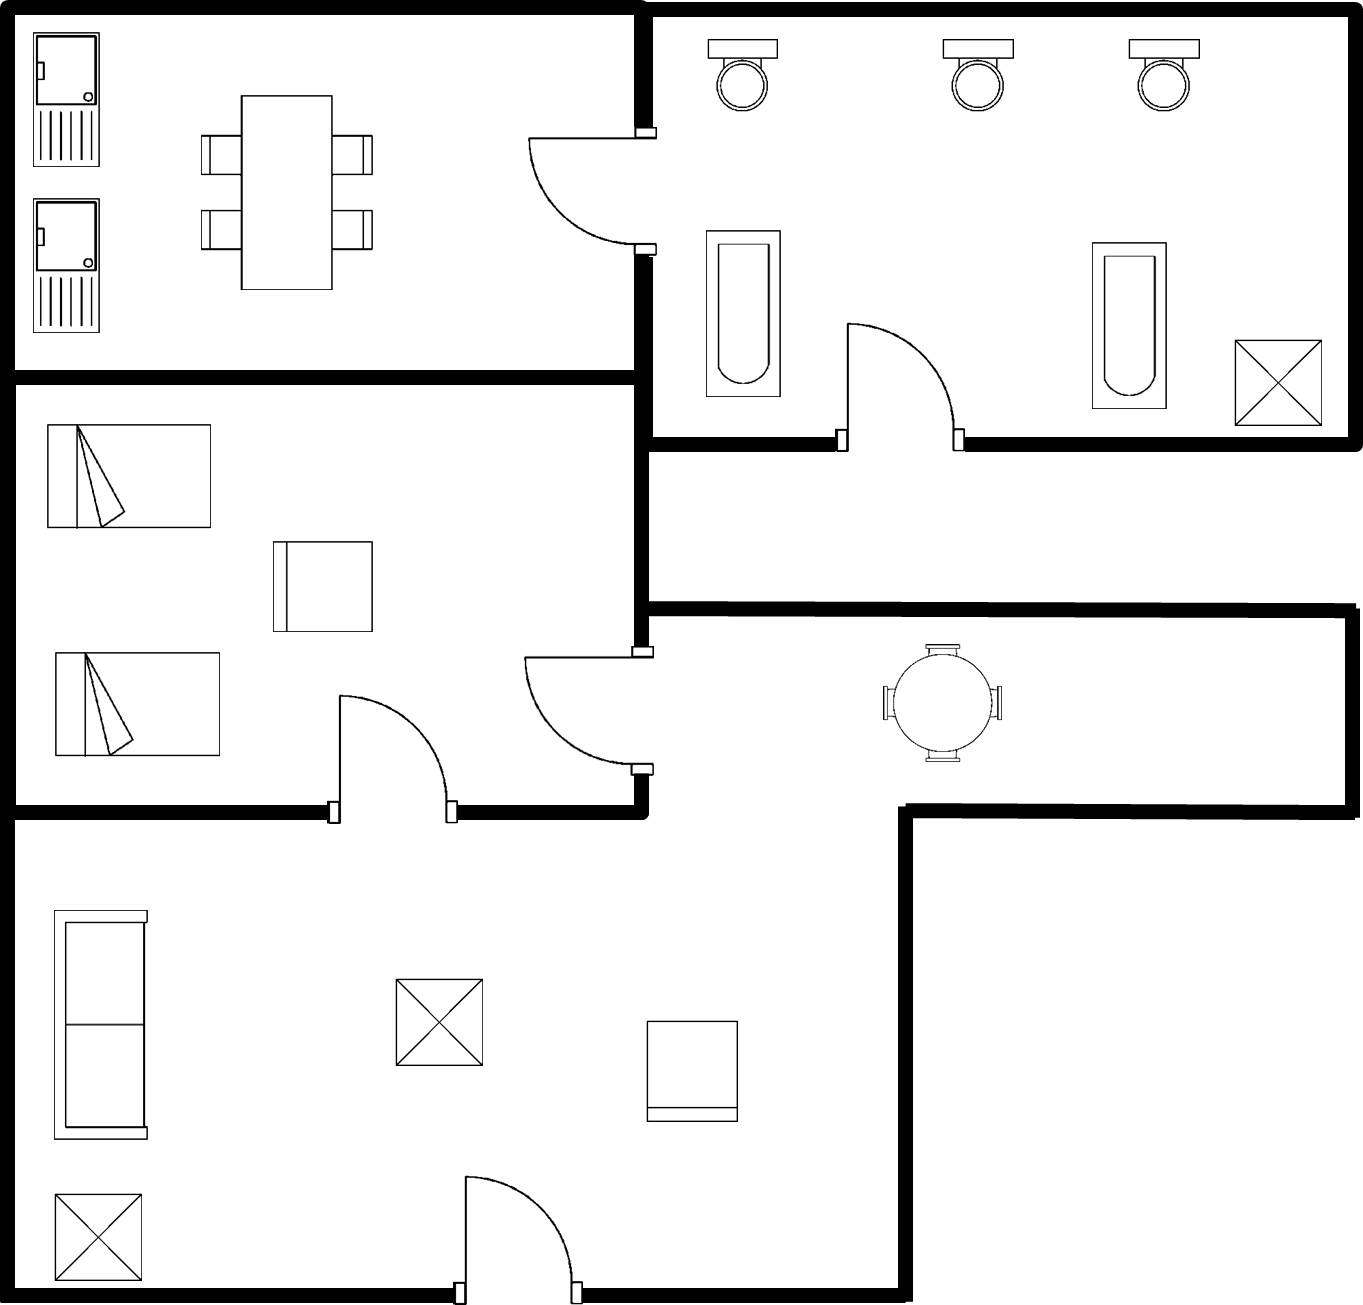bed: (45, 643, 230, 765), (38, 414, 219, 537)
coffee_table: (386, 970, 492, 1076), (1226, 329, 1328, 434)
dining_table: (193, 85, 387, 302)
large_sink: (693, 31, 792, 114), (933, 32, 1025, 122), (1114, 31, 1206, 119)
large_sofa: (41, 899, 160, 1150)
round_table: (871, 632, 1011, 770)
sink: (25, 27, 115, 176), (25, 190, 107, 341)
small_sofa: (636, 1012, 753, 1138), (262, 534, 387, 643)
tub: (1083, 233, 1176, 417), (696, 222, 790, 403)
